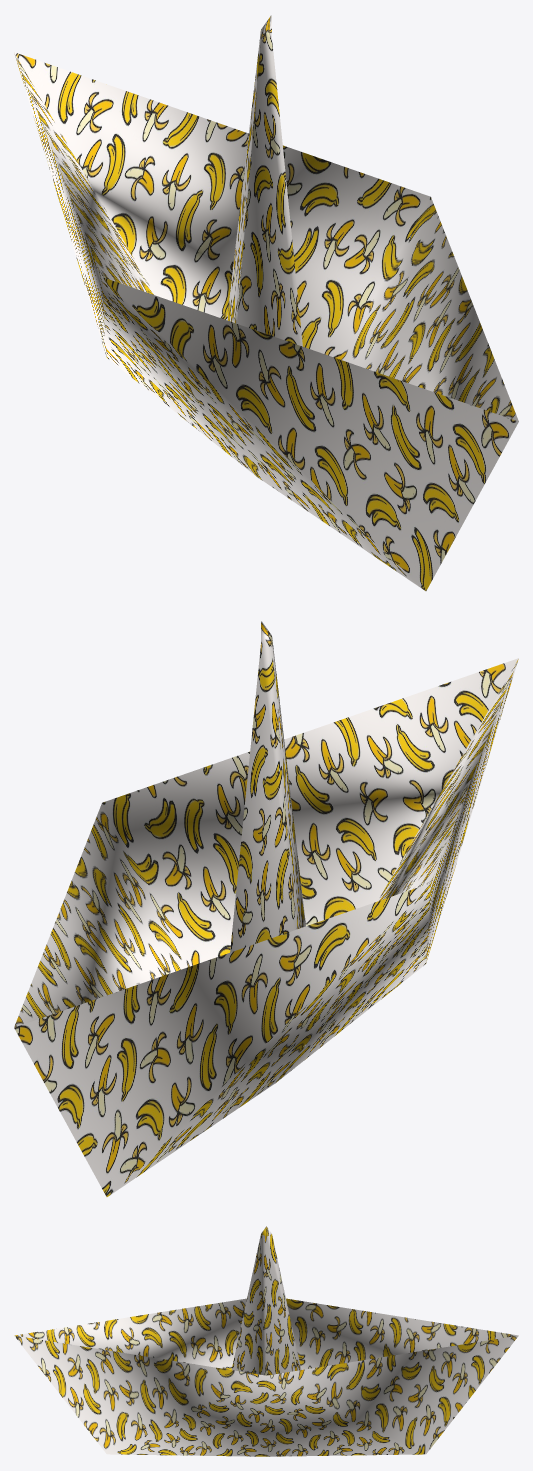
Rendered from BananaBoat.fbx.
3 renders of one model, top to bottom at view 1: azimuth 30°, elevation 25°; view 2: azimuth 150°, elevation 25°; view 3: azimuth 270°, elevation 25°, orthographic. The views are drawn at different scales.
Visible parts, largest first — view 1: Boat.004; view 2: Boat.004; view 3: Boat.004.
Boxes of the visible parts, box(x1,y1,x2,y2) form: Boat.004: box(14, 15, 518, 590); Boat.004: box(14, 621, 518, 1196); Boat.004: box(14, 1226, 518, 1456).
Bounding box in the file's own units: 139 × 186 × 370.
1 material, 1 textured.
